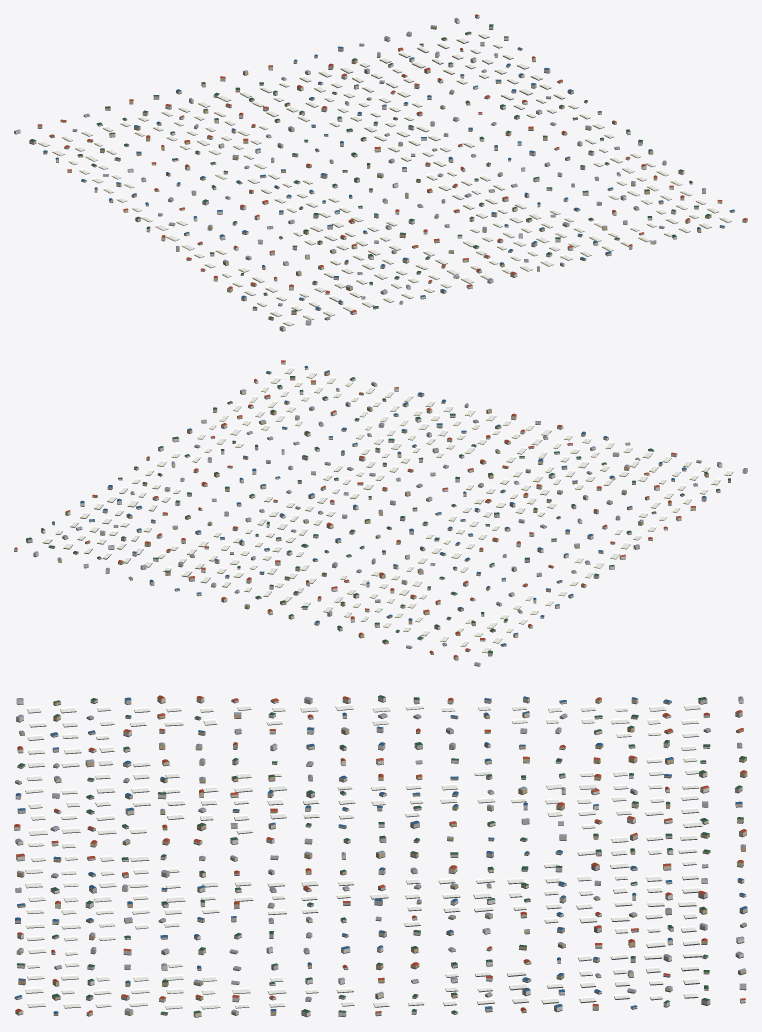
File: buildings_T_W01_N03.glb
3 renders of one model, top to bottom at view 1: azimuth 30°, elevation 25°; view 2: azimuth 150°, elevation 25°; view 3: azimuth 270°, elevation 25°, orthographic. The views are drawn at different scales.
Parts seen in each view (by area): view 1: T_W01_N03_roofs_agri_greenhouse_arch, T_W01_N03_slope_seating_foundations, T_W01_N03_walls_wall_modern_warm_white, T_W01_N03_walls_wall_pastel_sand_gray, T_W01_N03_walls_wall_dalat_cream_stucco, T_W01_N03_walls_wall_french_ochre_villa, T_W01_N03_roofs_roof_pine_green_hip, T_W01_N03_roofs_roof_zinc_silver_gable, T_W01_N03_roofs_roof_terracotta_gable, T_W01_N03_roofs_roof_highland_blue_gable; view 2: T_W01_N03_roofs_agri_greenhouse_arch, T_W01_N03_slope_seating_foundations, T_W01_N03_walls_wall_modern_warm_white, T_W01_N03_walls_wall_dalat_cream_stucco, T_W01_N03_walls_wall_pastel_sand_gray, T_W01_N03_walls_wall_french_ochre_villa, T_W01_N03_roofs_roof_pine_green_hip, T_W01_N03_roofs_roof_zinc_silver_gable, T_W01_N03_roofs_roof_terracotta_gable, T_W01_N03_roofs_roof_highland_blue_gable; view 3: T_W01_N03_roofs_agri_greenhouse_arch, T_W01_N03_slope_seating_foundations, T_W01_N03_walls_wall_modern_warm_white, T_W01_N03_walls_wall_dalat_cream_stucco, T_W01_N03_walls_wall_pastel_sand_gray, T_W01_N03_walls_wall_french_ochre_villa, T_W01_N03_roofs_roof_zinc_silver_gable, T_W01_N03_roofs_roof_pine_green_hip, T_W01_N03_roofs_roof_terracotta_gable, T_W01_N03_roofs_roof_highland_blue_gable.
Part boxes in pixels (x1,y1,x2,y2): T_W01_N03_roofs_agri_greenhouse_arch: (38,32,731,325); T_W01_N03_slope_seating_foundations: (14,17,747,331); T_W01_N03_walls_wall_modern_warm_white: (14,15,725,330); T_W01_N03_walls_wall_pastel_sand_gray: (29,26,698,310); T_W01_N03_walls_wall_dalat_cream_stucco: (56,44,747,310); T_W01_N03_walls_wall_french_ochre_villa: (60,26,734,319); T_W01_N03_roofs_roof_pine_green_hip: (29,24,711,318); T_W01_N03_roofs_roof_zinc_silver_gable: (15,18,706,328); T_W01_N03_roofs_roof_terracotta_gable: (37,14,747,312); T_W01_N03_roofs_roof_highland_blue_gable: (43,46,734,309); T_W01_N03_roofs_agri_greenhouse_arch: (42,367,733,652); T_W01_N03_slope_seating_foundations: (14,364,747,666); T_W01_N03_walls_wall_modern_warm_white: (14,367,747,666); T_W01_N03_walls_wall_dalat_cream_stucco: (62,362,720,648); T_W01_N03_walls_wall_pastel_sand_gray: (26,386,706,660); T_W01_N03_walls_wall_french_ochre_villa: (49,371,730,654); T_W01_N03_roofs_roof_pine_green_hip: (26,376,730,653); T_W01_N03_roofs_roof_zinc_silver_gable: (34,382,747,664); T_W01_N03_roofs_roof_terracotta_gable: (14,360,695,657); T_W01_N03_roofs_roof_highland_blue_gable: (52,365,706,645); T_W01_N03_roofs_agri_greenhouse_arch: (25,703,702,1008); T_W01_N03_slope_seating_foundations: (14,700,747,1017); T_W01_N03_walls_wall_modern_warm_white: (14,696,746,1016); T_W01_N03_walls_wall_dalat_cream_stucco: (15,697,746,1017); T_W01_N03_walls_wall_pastel_sand_gray: (15,698,747,1015); T_W01_N03_walls_wall_french_ochre_villa: (17,701,747,1015); T_W01_N03_roofs_roof_zinc_silver_gable: (15,696,746,1012); T_W01_N03_roofs_roof_pine_green_hip: (17,695,746,1013); T_W01_N03_roofs_roof_terracotta_gable: (14,695,747,1013); T_W01_N03_roofs_roof_highland_blue_gable: (15,696,747,1013).
Bounding box in the file's own units: 1749 × 46.32 × 1749.
